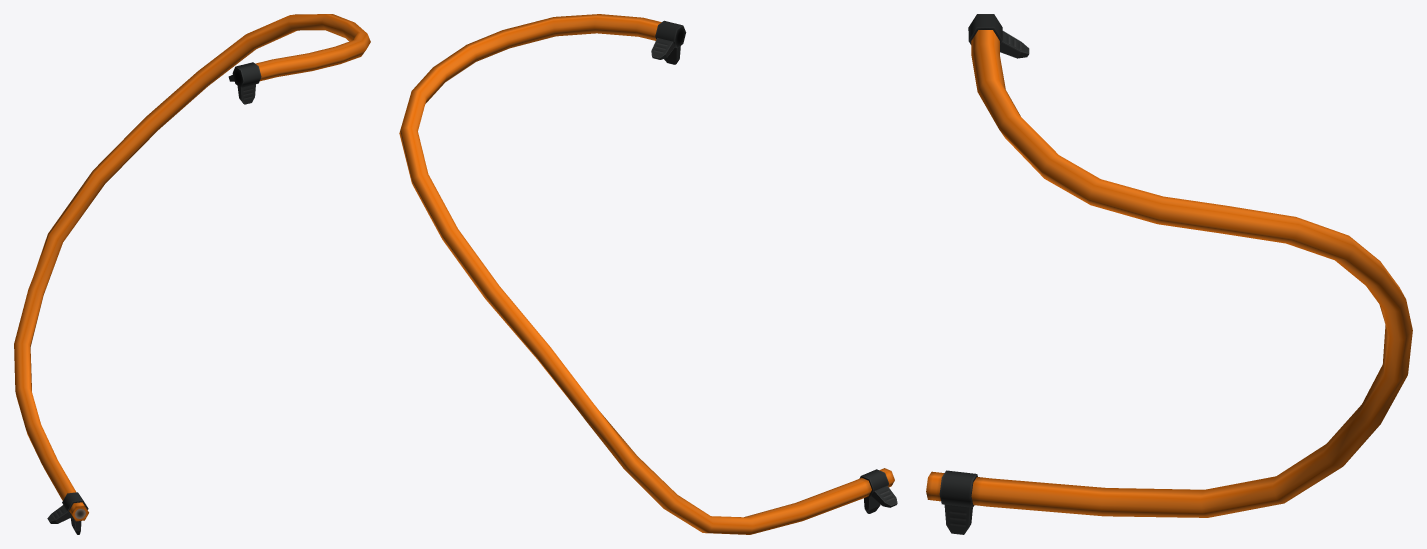
Rendered from jsf_GasRange_09b.fbx.
The picture shows the model from 3 angles, left to right: view 1: azimuth 30°, elevation 25°; view 2: azimuth 150°, elevation 25°; view 3: azimuth 270°, elevation 25°; orthographic projection. The views are drawn at different scales.
Parts seen in each view (by area): view 1: GasHose; view 2: GasHose; view 3: GasHose.
Boxes of the visible parts, box(x1,y1,x2,y2) form: GasHose: box(14, 14, 370, 534); GasHose: box(399, 14, 897, 534); GasHose: box(926, 14, 1412, 534).
Size of the model in its own units: 41.43 by 44.38 by 30.23.
